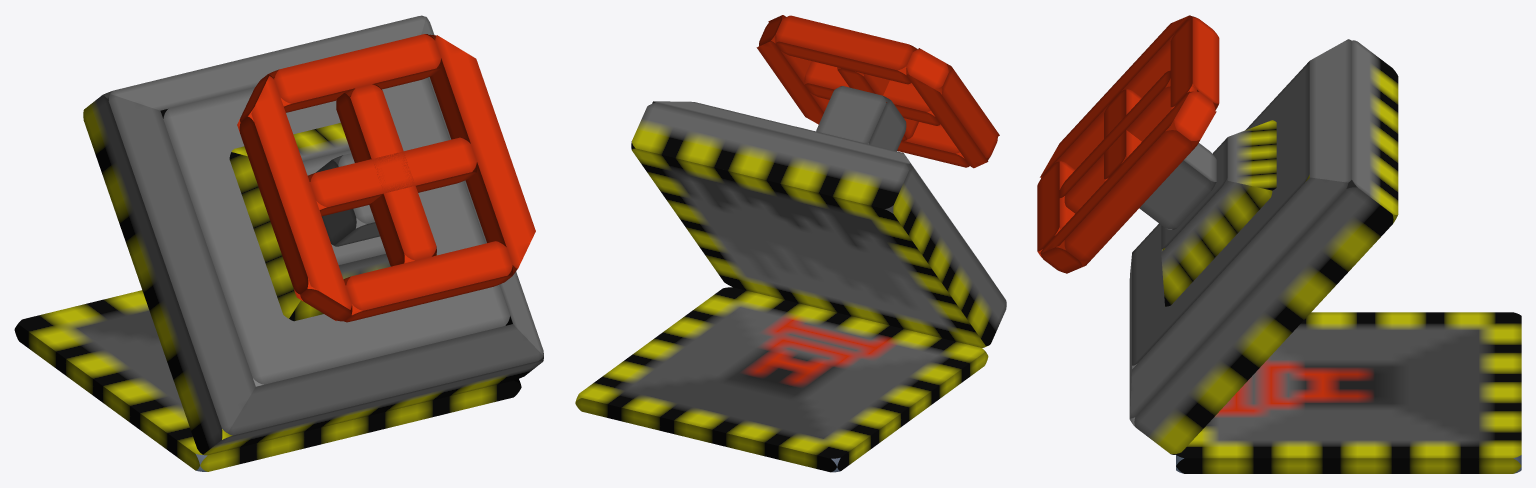
File: ValveDoor.fbx
3 views of the same model, side by side, from view 1: azimuth 30°, elevation 25°; view 2: azimuth 150°, elevation 25°; view 3: azimuth 270°, elevation 25° (orthographic). The views are drawn at different scales.
Visible parts, largest first — view 1: cuboid, Hole, cuboid_6, cuboid_5, cuboid_4, cuboid_7, cuboid_1, cuboid_8, cuboid_3, cuboid_2; view 2: cuboid, Hole, cuboid_8, cuboid_6, cuboid_2, cuboid_5, cuboid_3, cuboid_7, cuboid_4; view 3: cuboid, Hole, cuboid_1, cuboid_5, cuboid_6, cuboid_4, cuboid_8, cuboid_2, cuboid_7, cuboid_3.
Boxes of the visible parts, <box> form: cuboid: <box>83,15,543,455</box>; Hole: <box>14,290,521,471</box>; cuboid_6: <box>237,74,352,321</box>; cuboid_5: <box>428,34,535,275</box>; cuboid_4: <box>336,84,436,266</box>; cuboid_7: <box>343,241,512,322</box>; cuboid_1: <box>229,123,436,321</box>; cuboid_8: <box>268,34,441,112</box>; cuboid_3: <box>308,137,477,216</box>; cuboid_2: <box>315,153,379,246</box>; cuboid: <box>631,101,1006,347</box>; Hole: <box>575,287,988,472</box>; cuboid_8: <box>775,15,917,84</box>; cuboid_6: <box>906,48,999,168</box>; cuboid_2: <box>816,86,906,151</box>; cuboid_5: <box>756,15,829,124</box>; cuboid_3: <box>804,61,942,125</box>; cuboid_7: <box>897,122,969,167</box>; cuboid_4: <box>837,67,918,140</box>; cuboid: <box>1129,39,1398,454</box>; Hole: <box>1176,312,1521,473</box>; cuboid_1: <box>1161,120,1276,306</box>; cuboid_5: <box>1040,91,1216,273</box>; cuboid_6: <box>1040,15,1196,177</box>; cuboid_4: <box>1059,70,1196,213</box>; cuboid_8: <box>1170,17,1219,109</box>; cuboid_2: <box>1139,143,1216,229</box>; cuboid_7: <box>1037,161,1074,259</box>; cuboid_3: <box>1104,89,1141,181</box>.
Size of the model in its own units: 125 by 140 by 175.
1 material, 1 textured.
